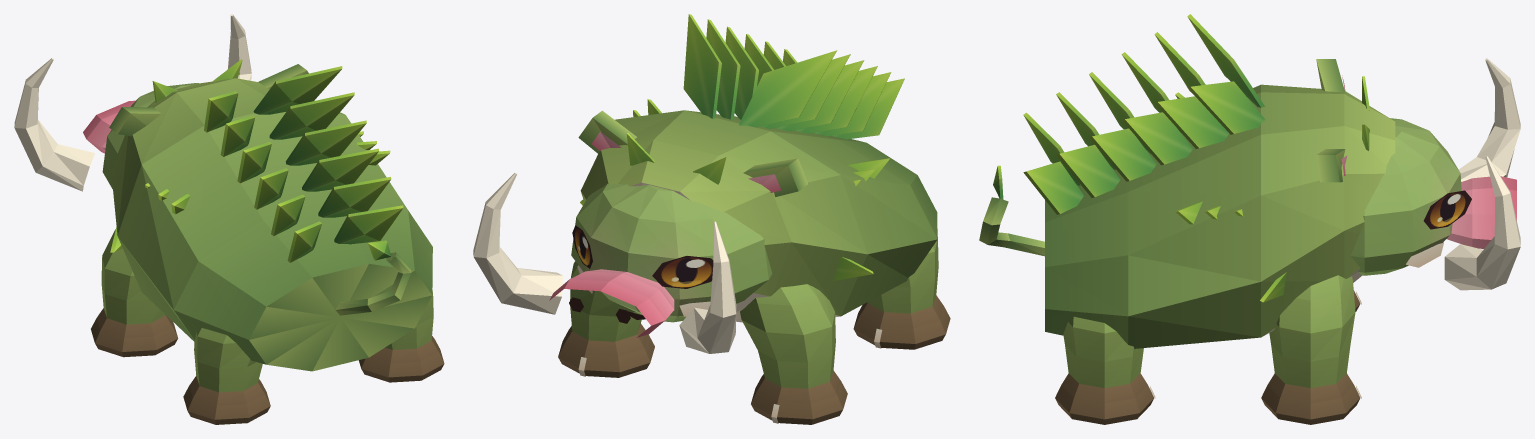
The model's file is BrambleBoar_S9_FacetedReview.glb.
3 renders of one model, left to right at view 1: azimuth 30°, elevation 25°; view 2: azimuth 150°, elevation 25°; view 3: azimuth 270°, elevation 25°, orthographic. The views are drawn at different scales.
Visible parts, largest first — view 1: Body, LeftBackLeg, LeftFrontLeg, LeftTusk, RightBackLeg, RightBrambleRidge0, RightBrambleRidge1, RightBrambleRidge2, RightBrambleRidge3, RightBrambleRidge4, RightBrambleRidge5, Tail (+11 smaller); view 2: Body, Head, LeftFrontLeg, RightFrontLeg, LeftBackLeg, RightTusk, LeftBrambleRidge0, LeftTusk, Snout, RightBrambleRidge0, RightBrambleRidge1, LeftEye (+12 smaller); view 3: Body, RightFrontLeg, Head, RightBackLeg, RightTusk, LeftTusk, Snout, RightBrambleRidge0, RightBrambleRidge1, RightBrambleRidge2, RightBrambleRidge3, RightBrambleRidge4 (+11 smaller).
Boxes of the visible parts, left/top/right/bottom form: Body: left=111, top=78, right=432, bottom=371; LeftBackLeg: left=183, top=328, right=270, bottom=424; LeftFrontLeg: left=91, top=229, right=178, bottom=357; LeftTusk: left=14, top=58, right=94, bottom=191; RightBackLeg: left=359, top=290, right=444, bottom=382; RightBrambleRidge0: left=253, top=66, right=342, bottom=114; RightBrambleRidge1: left=269, top=92, right=354, bottom=139; RightBrambleRidge2: left=285, top=120, right=366, bottom=165; RightBrambleRidge3: left=302, top=148, right=378, bottom=191; RightBrambleRidge4: left=318, top=177, right=391, bottom=217; RightBrambleRidge5: left=334, top=205, right=403, bottom=244; Tail: left=335, top=252, right=411, bottom=315; Body: left=580, top=110, right=937, bottom=322; Head: left=571, top=183, right=772, bottom=322; LeftFrontLeg: left=740, top=284, right=847, bottom=424; RightFrontLeg: left=558, top=261, right=654, bottom=377; LeftBackLeg: left=853, top=237, right=950, bottom=349; RightTusk: left=473, top=173, right=562, bottom=314; LeftBrambleRidge0: left=739, top=50, right=836, bottom=127; LeftTusk: left=679, top=221, right=736, bottom=353; Snout: left=549, top=269, right=674, bottom=337; RightBrambleRidge0: left=683, top=14, right=721, bottom=118; RightBrambleRidge1: left=706, top=19, right=740, bottom=119; LeftEye: left=652, top=256, right=713, bottom=288; Body: left=1045, top=84, right=1395, bottom=348; RightFrontLeg: left=1261, top=275, right=1360, bottom=424; Head: left=1350, top=118, right=1461, bottom=275; RightBackLeg: left=1055, top=316, right=1153, bottom=424; RightTusk: left=1444, top=156, right=1520, bottom=290; LeftTusk: left=1458, top=58, right=1520, bottom=181; Snout: left=1447, top=176, right=1516, bottom=248; RightBrambleRidge0: left=1187, top=81, right=1265, bottom=134; RightBrambleRidge1: left=1154, top=96, right=1229, bottom=148; RightBrambleRidge2: left=1122, top=112, right=1192, bottom=165; RightBrambleRidge3: left=1089, top=128, right=1156, bottom=181; RightBrambleRidge4: left=1056, top=144, right=1120, bottom=197.
Bounding box in the file's own units: 15.06 × 15 × 23.93.
Materials: 1 (1 with a texture image).
